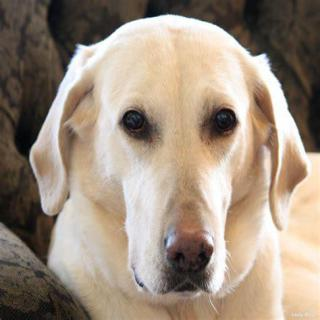dog: (31, 19, 307, 302)
